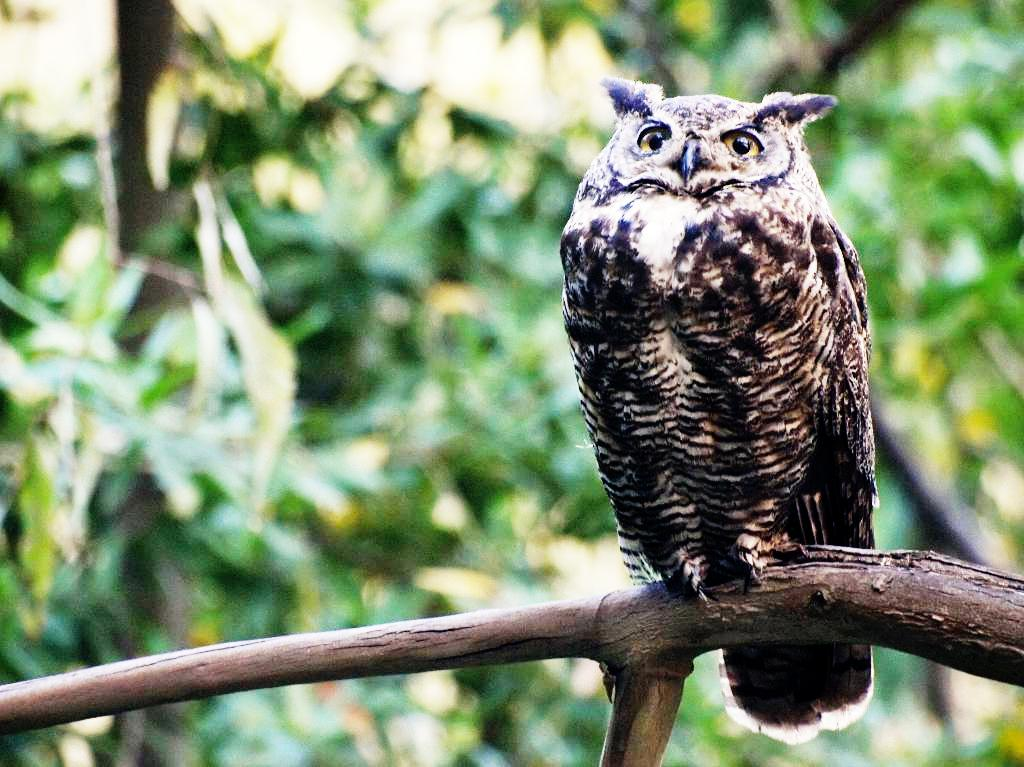Owl: (556, 76, 876, 750)
